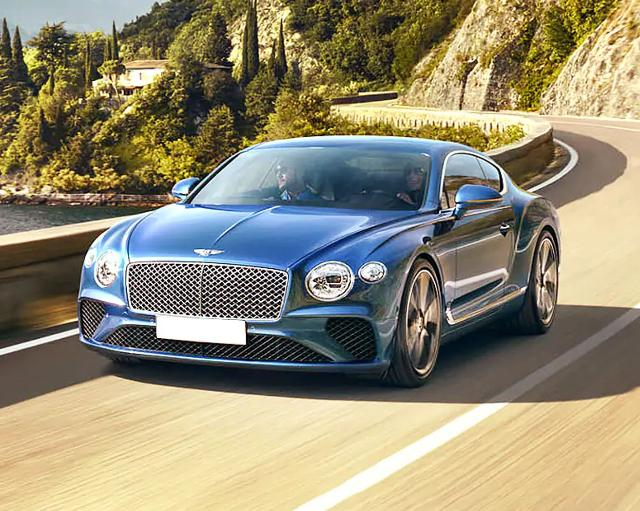bentley: (77, 136, 561, 388)
